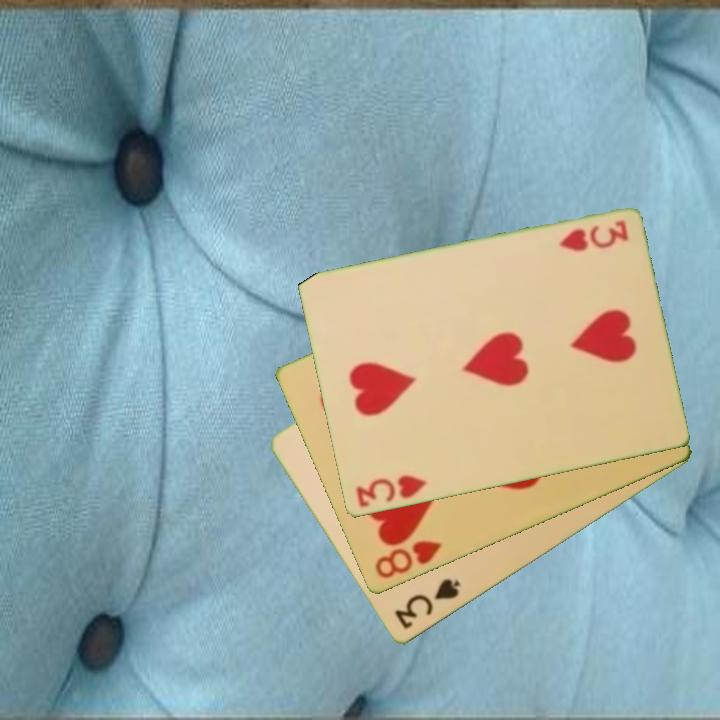3h: (352, 472, 430, 511), (555, 217, 631, 255)
3s: (390, 575, 463, 633)
8h: (371, 537, 445, 582)
